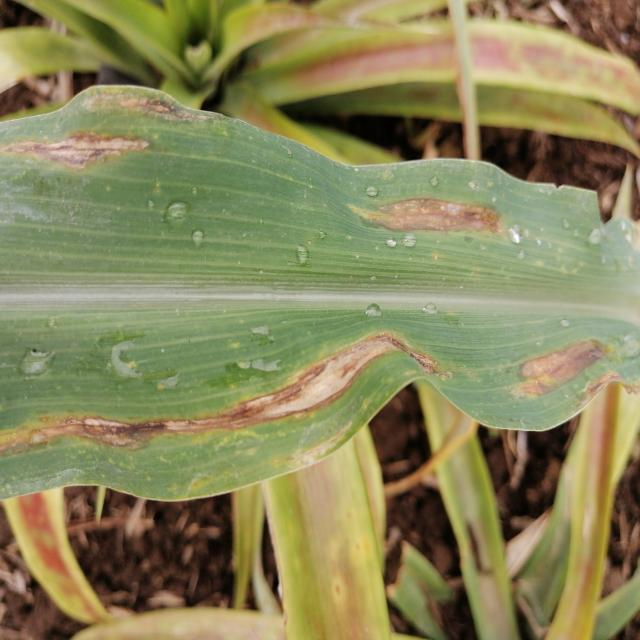Corn_Leaf_Blight: (0, 97, 640, 486)
